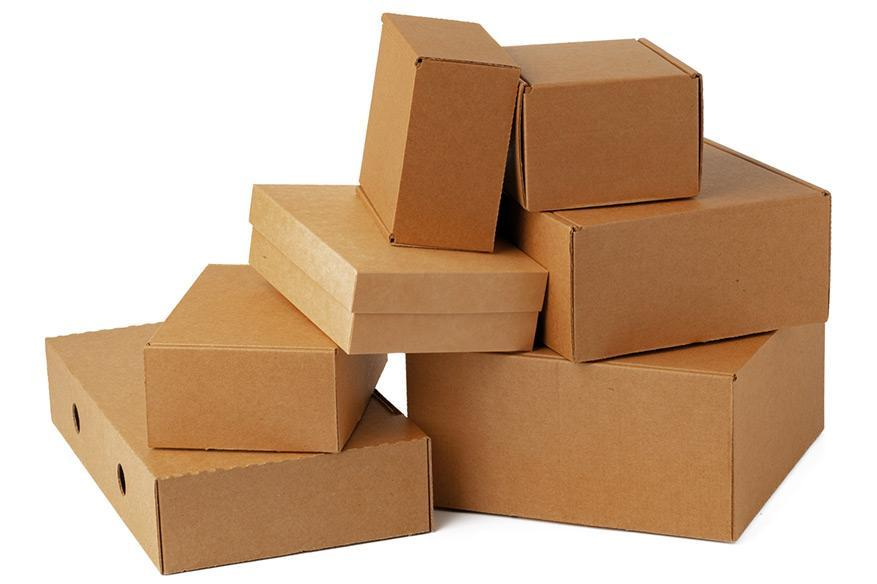box: (374, 304, 831, 546), (35, 323, 445, 548), (494, 170, 839, 362), (241, 176, 543, 353), (157, 247, 384, 450), (360, 6, 511, 250), (507, 40, 707, 203)
